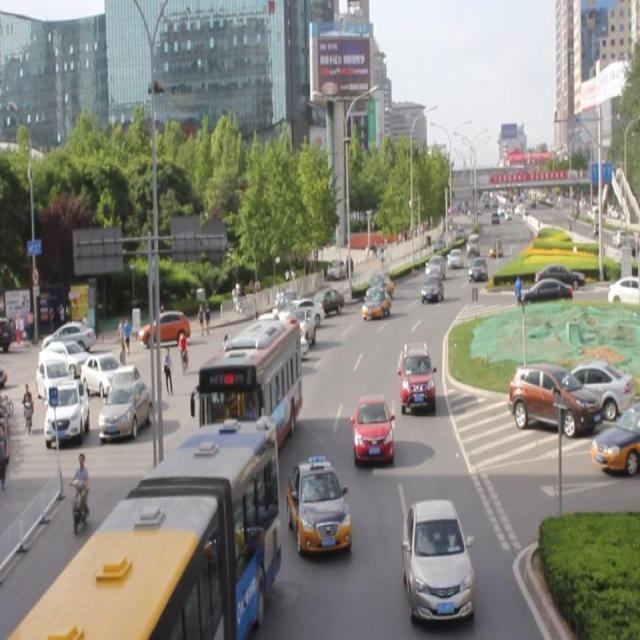car: (402, 498, 471, 620), (289, 458, 350, 552), (353, 393, 393, 462), (398, 340, 434, 411), (259, 320, 308, 356), (276, 294, 325, 329), (280, 310, 314, 360), (211, 345, 245, 395), (255, 335, 294, 376), (249, 314, 280, 358), (310, 286, 345, 316), (361, 286, 392, 318), (365, 274, 393, 302), (419, 273, 444, 301)
van: (9, 417, 277, 640), (198, 319, 302, 453)
